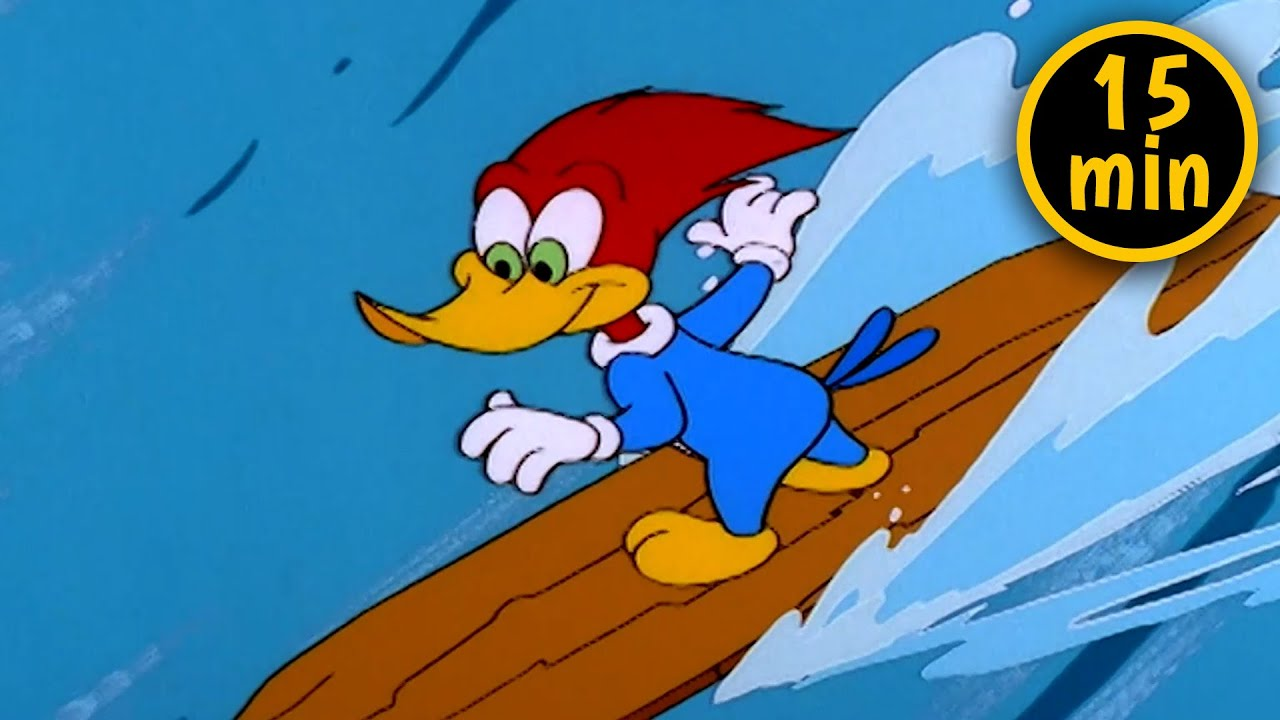picapau: (321, 55, 943, 619)
